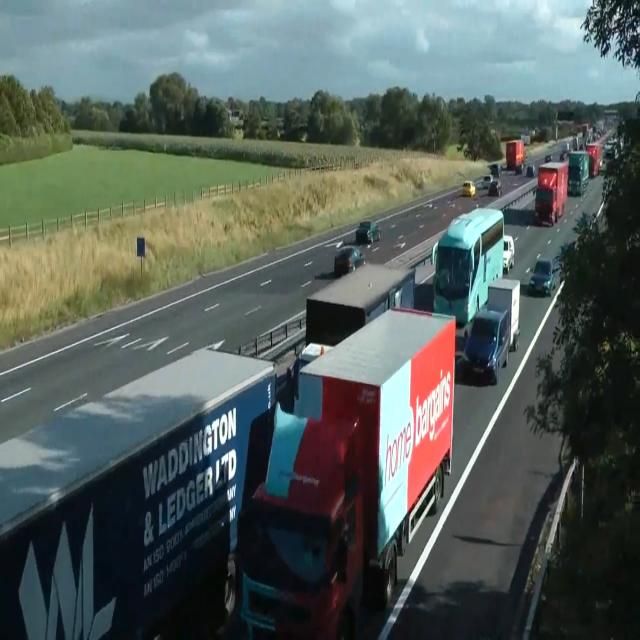bus: (528, 258, 556, 297), (333, 245, 365, 278), (355, 220, 381, 243), (488, 180, 501, 197), (463, 180, 475, 197), (488, 163, 502, 177), (522, 163, 534, 177), (544, 154, 552, 162)
car: (233, 303, 456, 637)
jeep: (462, 306, 510, 385)
minibus: (0, 342, 277, 639), (305, 260, 415, 348), (431, 206, 504, 326), (486, 277, 520, 351), (534, 161, 568, 227), (567, 150, 589, 196), (505, 139, 525, 173), (502, 234, 514, 274), (586, 144, 600, 177), (520, 133, 530, 146)
